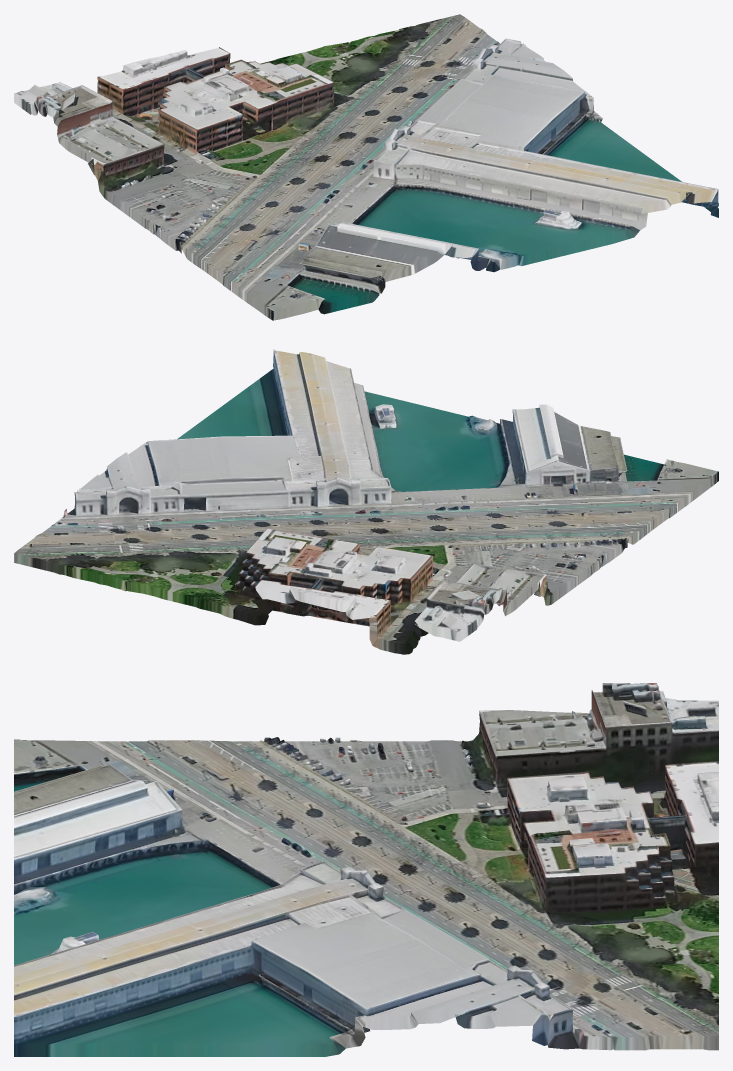
File: z17-20971-50649-h0-yup-uvflip-v3-world.glb
The picture shows the model from 3 angles, top to bottom: view 1: azimuth 30°, elevation 25°; view 2: azimuth 150°, elevation 25°; view 3: azimuth 270°, elevation 25°; orthographic projection. The views are drawn at different scales.
Bounding box in the file's own units: 241 × 29.76 × 243.
Materials: 1 (1 with a texture image).
